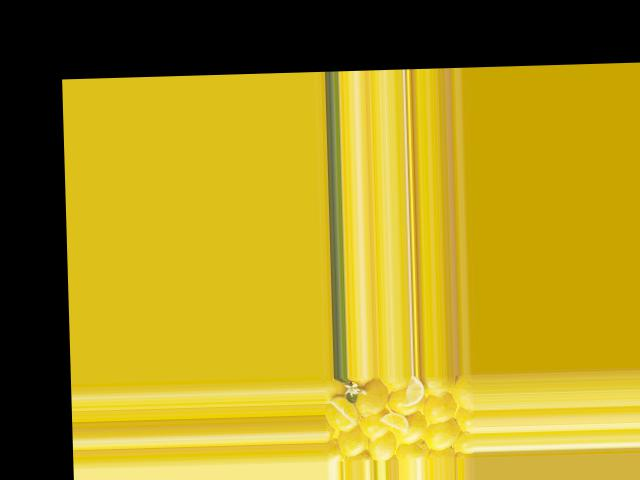lemon: (422, 374, 455, 402)
